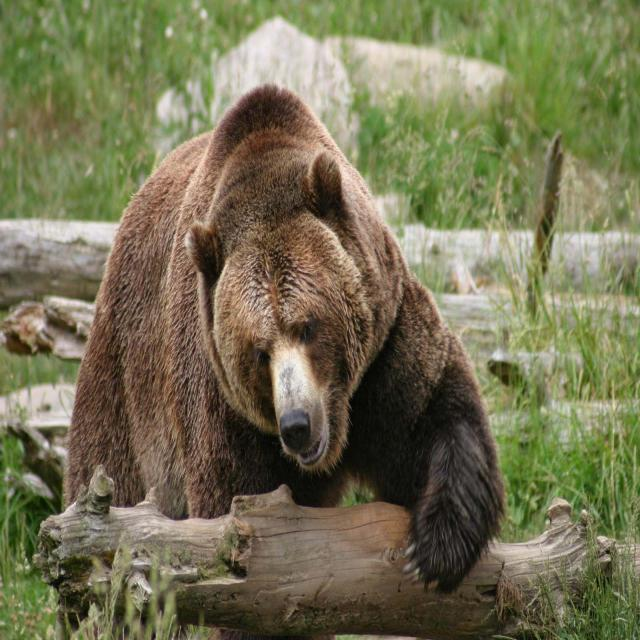Bear: (48, 85, 507, 599)
